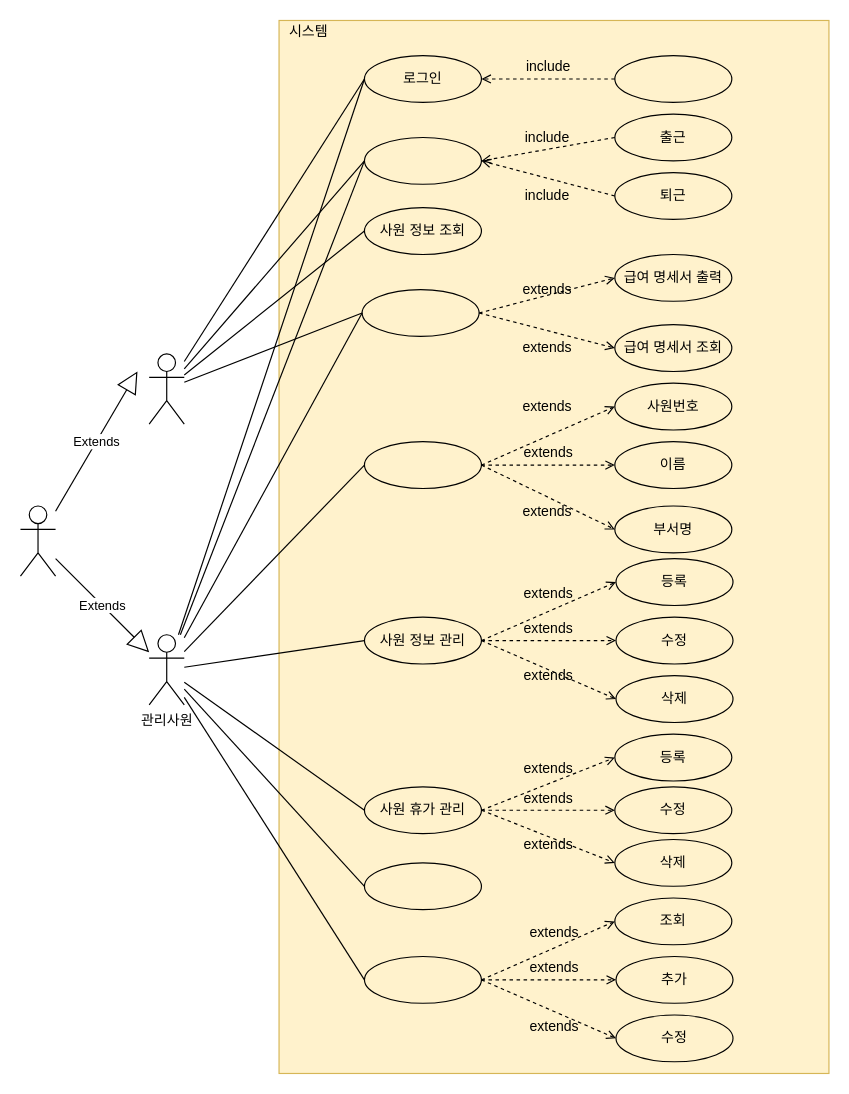
Image size: 849x1094. Some labels were removed from this diagram. Each missing label, with the centre of its shape:
"검색 기능" belongs at (x=422, y=464).
"급여 관리" belongs at (x=420, y=312).
"기록" belongs at (x=422, y=160).
"로그아웃" belongs at (x=673, y=78).
"사원" belongs at (x=37, y=540).
"일일 보고서 조회" belongs at (x=422, y=886).
"평사원" belongs at (x=166, y=388).
"회사 일정 관리" belongs at (x=422, y=979).
